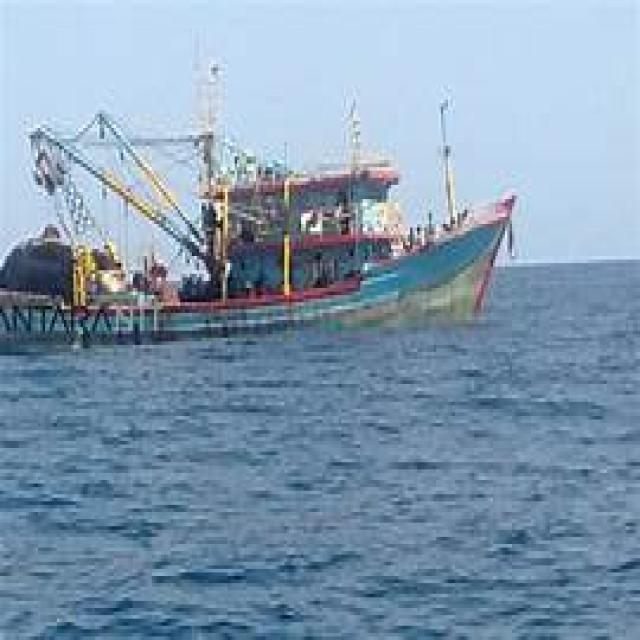Fishing Boat: (0, 99, 516, 348)
